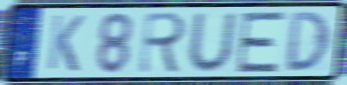8: (96, 11, 135, 75)
D: (285, 9, 332, 73)
E: (234, 10, 288, 75)
K: (45, 12, 87, 74)
R: (137, 10, 189, 75)
U: (186, 11, 238, 74)
